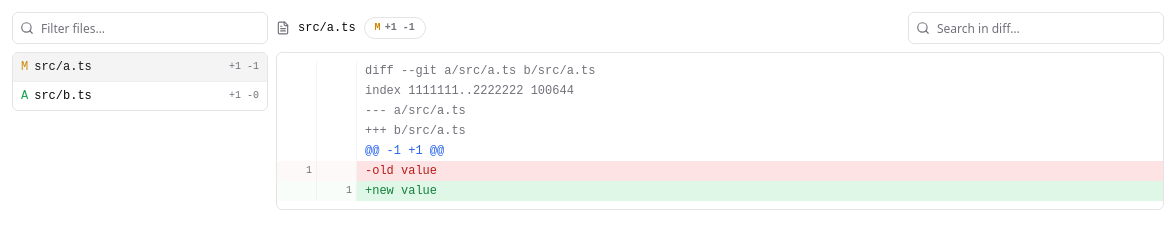
it: DiffView › searches the diff and highlights matches
In the field labelled "Search in diff…": (1036, 28) [908,12,1164,44], type "value"
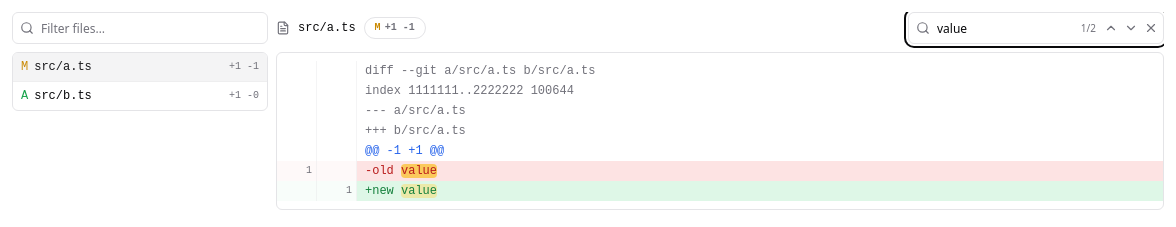
Expected: the text "value" next to "-old" is shown, [401,164,437,178]
Now the text "1/2" is shown, box [1081,20,1096,34]
